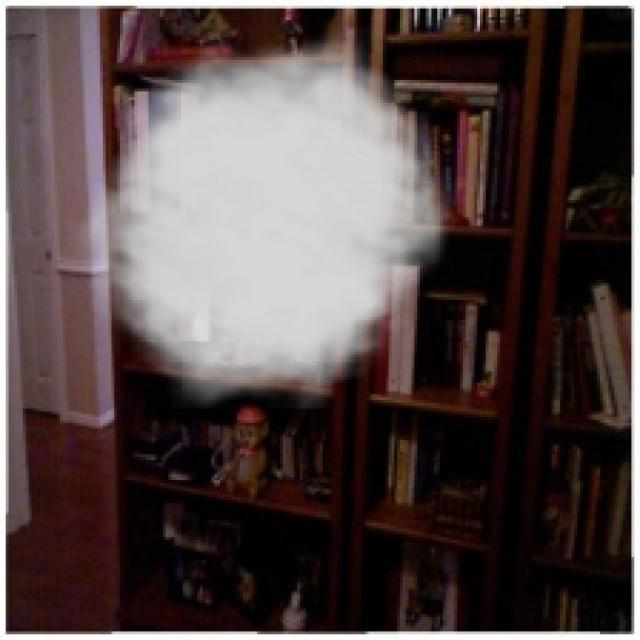smoke: (68, 23, 466, 408)
